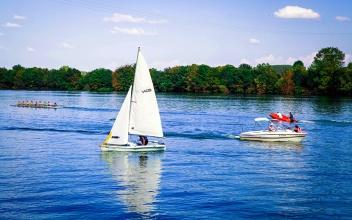fanchuan: (98, 48, 183, 154)
otherboat: (224, 114, 314, 141), (269, 108, 300, 124)
